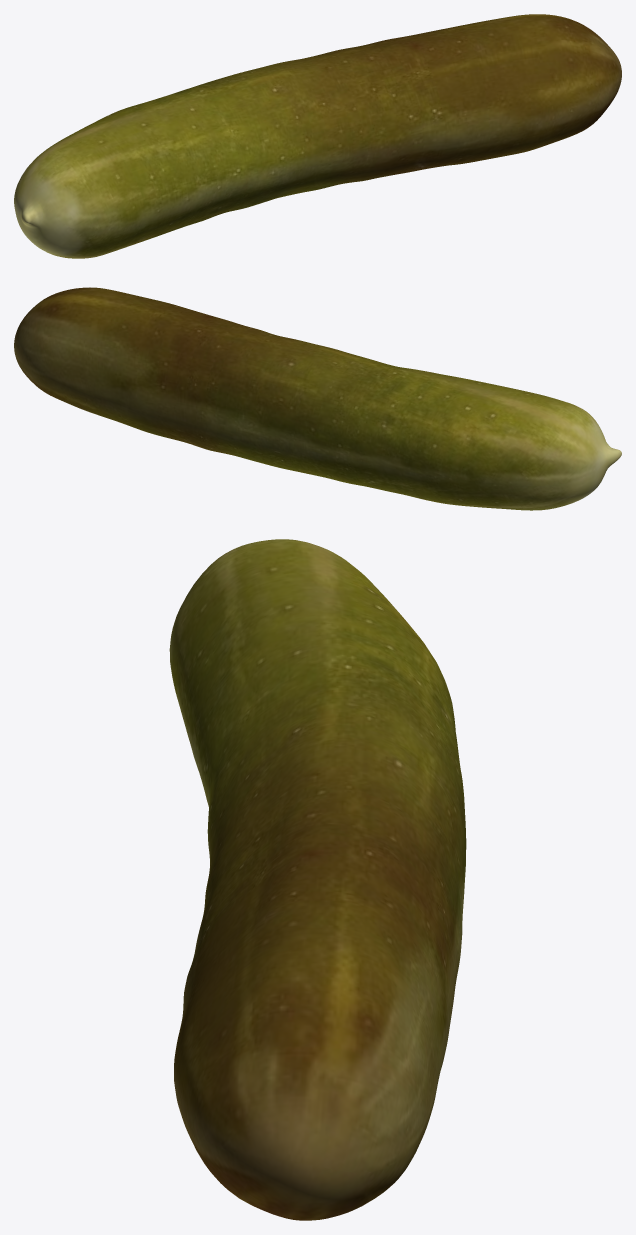
Rendered from SM_PickledCucumber.fbx.
3 views of the same model, one above another, from view 1: azimuth 30°, elevation 25°; view 2: azimuth 150°, elevation 25°; view 3: azimuth 270°, elevation 25° (orthographic). The views are drawn at different scales.
Parts seen in each view (by area): view 1: PickledCucumberPeel; view 2: PickledCucumberPeel; view 3: PickledCucumberPeel.
Boxes of the visible parts, box(x1,y1,x2,y2) form: PickledCucumberPeel: box(14, 14, 621, 258); PickledCucumberPeel: box(14, 287, 621, 510); PickledCucumberPeel: box(169, 539, 466, 1220).
Size of what is drawn, in the model's own units: 7.56 by 1.66 by 1.46.
